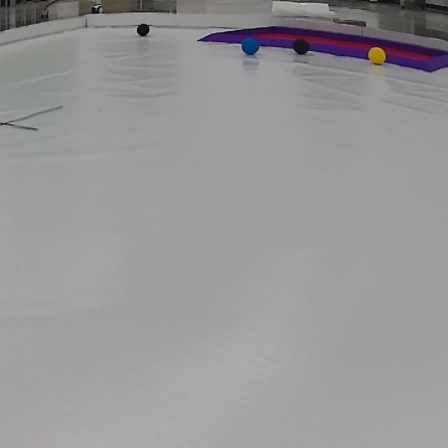black: (290, 39, 310, 55), (136, 26, 151, 38)
blue: (240, 38, 261, 55)
red_aim: (204, 22, 448, 76)
yellow: (367, 46, 390, 66)
